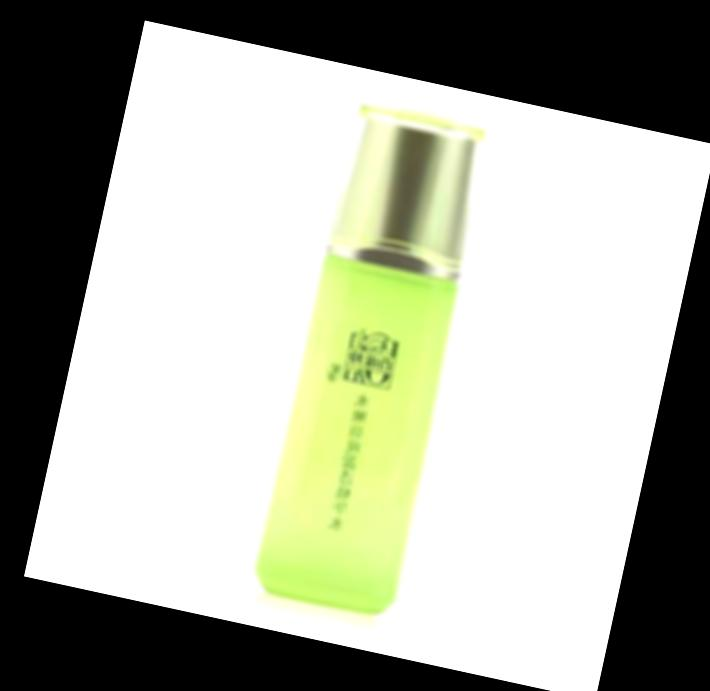cosmetic: (249, 97, 492, 606)
